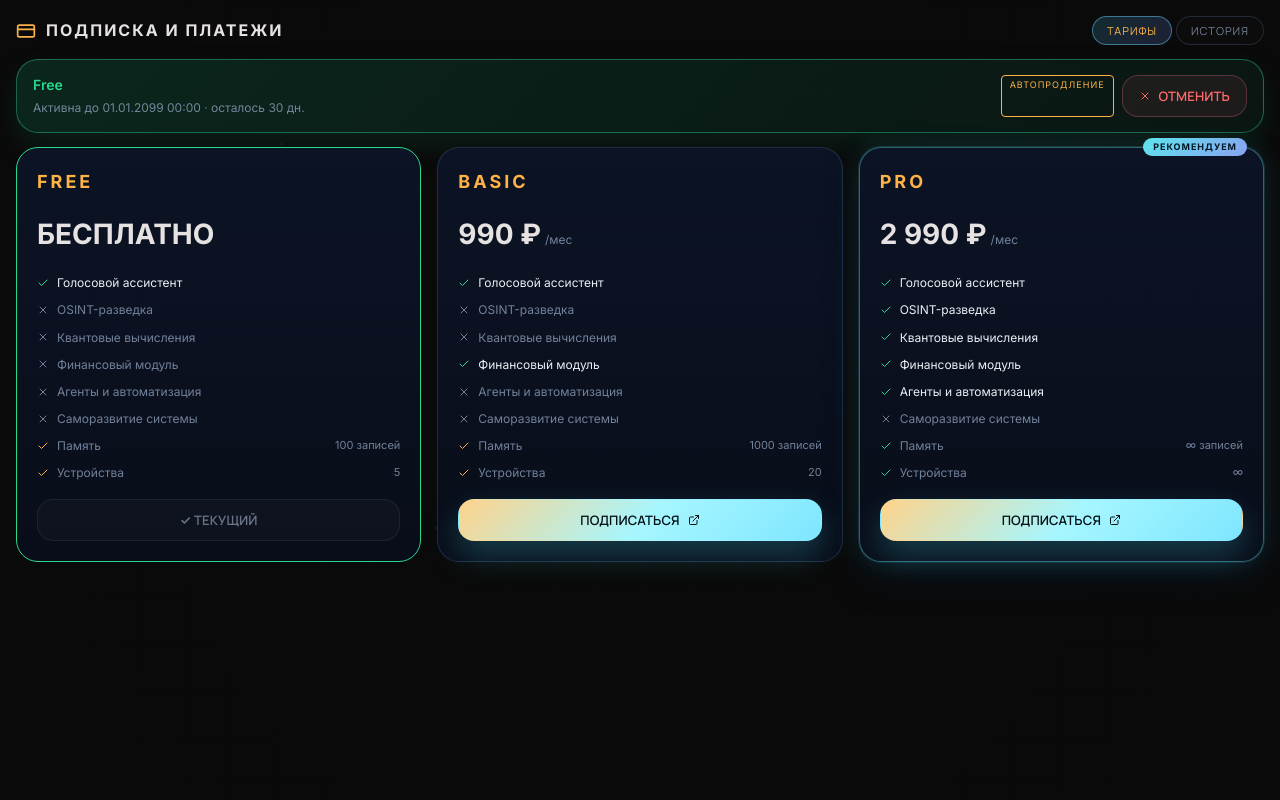
Test case: Subscription UI › переключается на вкладку ИСТОРИЯ
Click the button "ИСТОРИЯ": (1220, 30) [1176,16,1264,45]
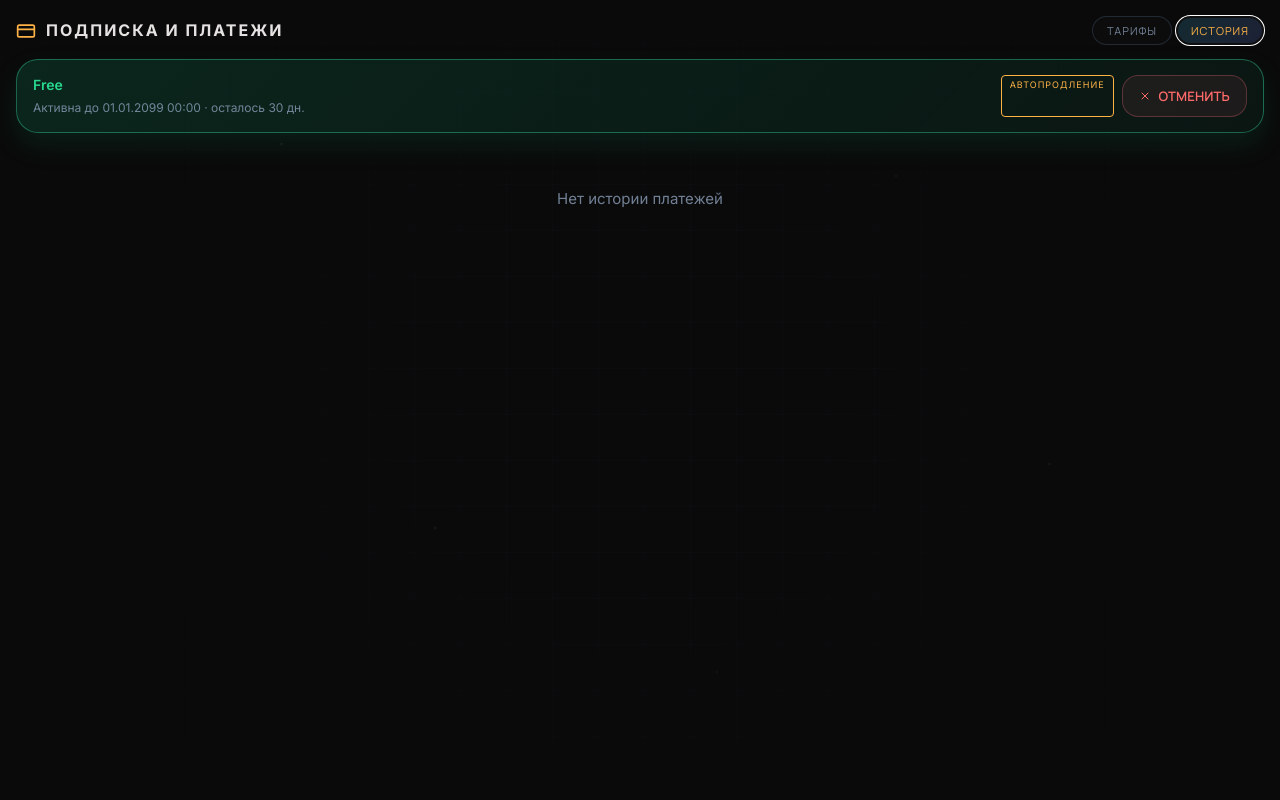
Expected: the text "Нет истории платежей" is shown, [557,189,723,208]
